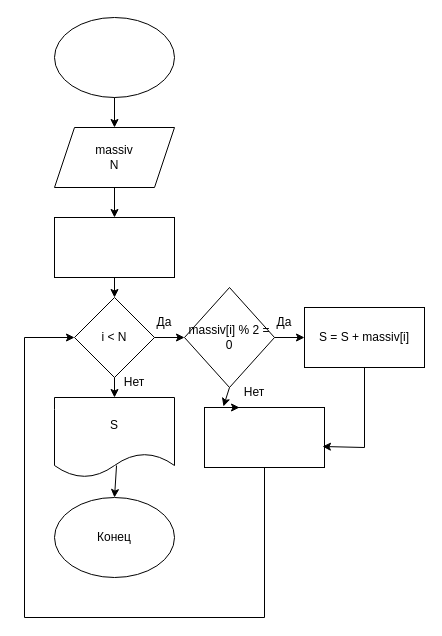
Some shapes in this 442 by 636 pixel diagram are drawn without their labels. Here are the shapes that lost their labels. From the top down, the centre of each, then its label:
At point 114,57: "Начало".
At point 114,247: "i = 0 S = 0".
At point 264,437: "i = i + 1".
